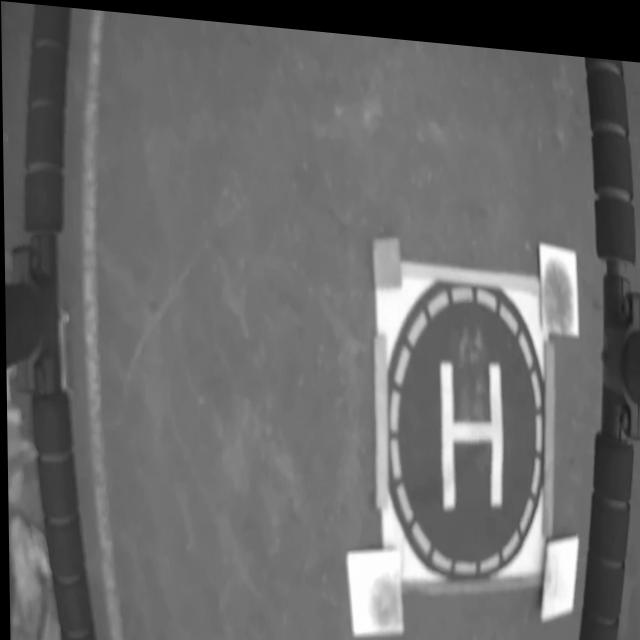Helipad: (438, 350, 500, 504)
